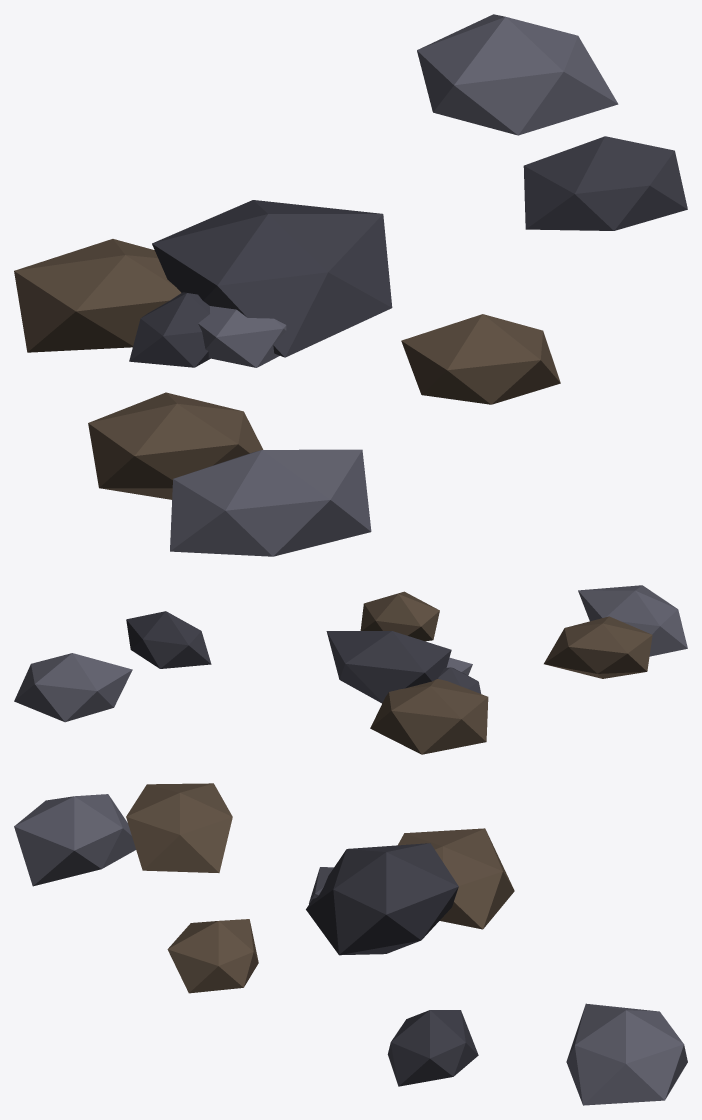
File: kit_scatter_pebbles.glb
3 views of the same model, one above another, from view 1: azimuth 30°, elevation 25°; view 2: azimuth 150°, elevation 25°; view 3: azimuth 270°, elevation 25° (orthographic). The views are drawn at different scales.
Visible parts, largest first — view 1: kit_scatter_pebbles; view 2: kit_scatter_pebbles; view 3: kit_scatter_pebbles.
Part boxes in pixels (box(x1,y1,x2,y2)): kit_scatter_pebbles: box(14, 14, 687, 556); kit_scatter_pebbles: box(14, 585, 687, 754); kit_scatter_pebbles: box(14, 783, 687, 1105).
Bounding box in the file's own units: 0.3908 × 0.0647 × 0.3877.
